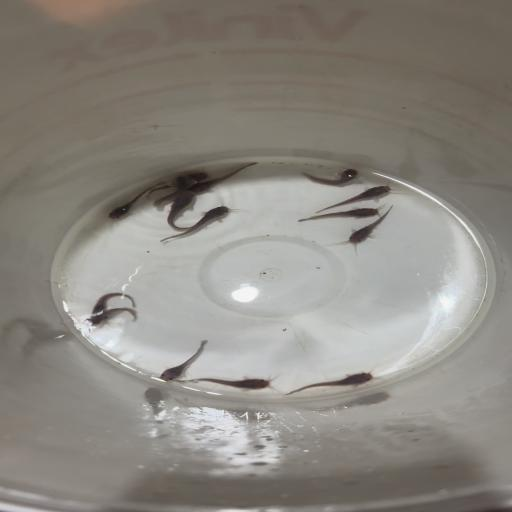lele: (159, 204, 234, 244), (279, 369, 379, 396), (314, 181, 398, 213), (104, 180, 167, 221), (339, 204, 396, 247), (154, 340, 209, 382), (196, 161, 258, 195), (294, 204, 386, 226), (177, 375, 278, 392), (144, 171, 210, 197), (76, 308, 139, 332), (163, 187, 197, 230), (298, 167, 362, 189), (152, 175, 190, 207), (89, 292, 137, 314)
